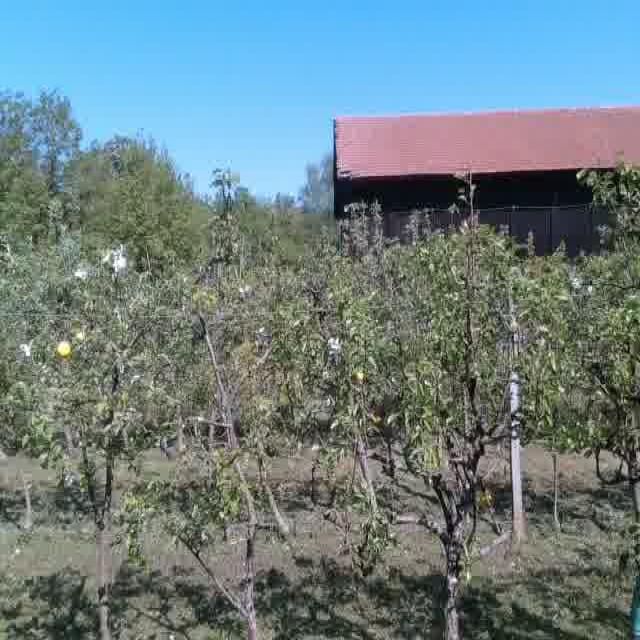yellow: (54, 338, 73, 359)
